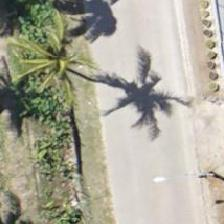coconut_tree: (0, 15, 90, 105)
